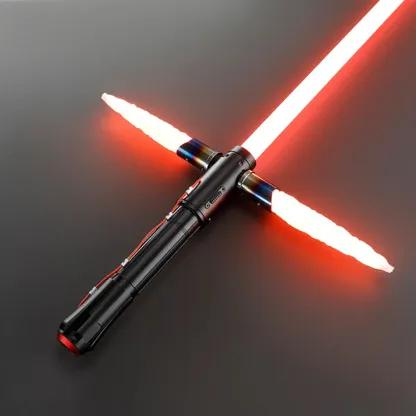sith_lightsaber: (45, 0, 416, 365)
